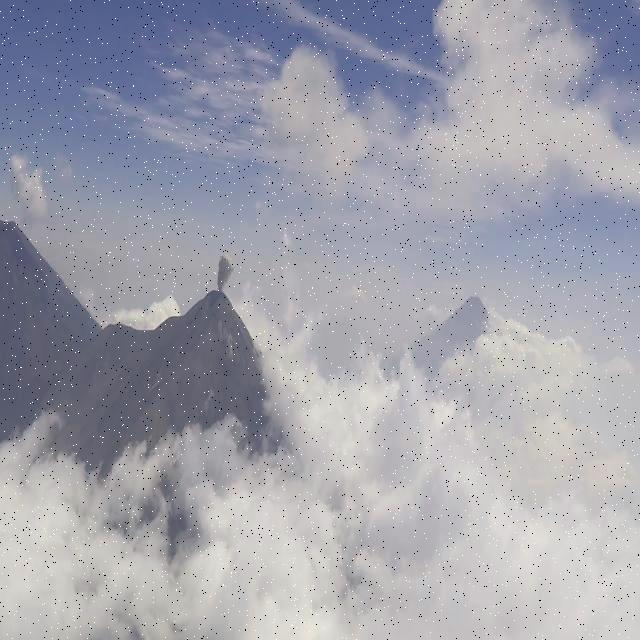Plume: (216, 252, 236, 290)
Summit: (156, 286, 254, 340)
